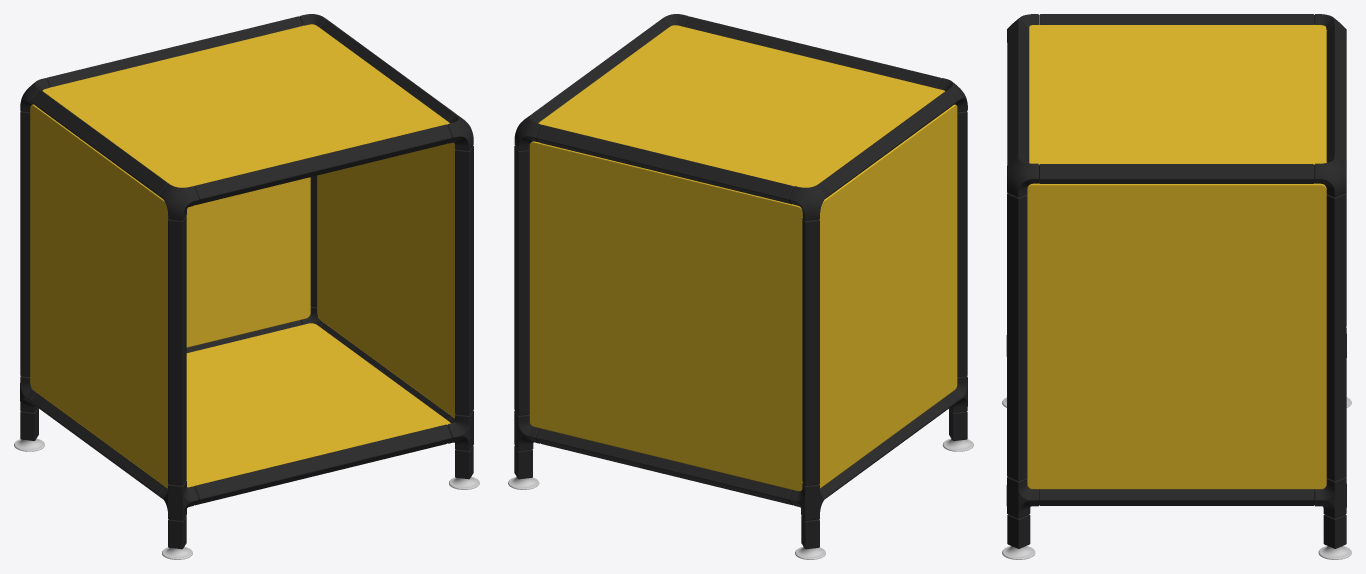
The picture shows the model from 3 angles, left to right: view 1: azimuth 30°, elevation 25°; view 2: azimuth 150°, elevation 25°; view 3: azimuth 270°, elevation 25°; orthographic projection. The views are drawn at different scales.
Parts seen in each view (by area): view 1: 374x329x374; view 2: 374x329x374; view 3: 374x329x374.
Boxes of the visible parts, x1,y1,x2,y2 form: 374x329x374: [14, 14, 479, 559]; 374x329x374: [508, 14, 973, 559]; 374x329x374: [1002, 14, 1351, 559].
Bounding box in the file's own units: 0.4639 × 0.5133 × 0.4182.
